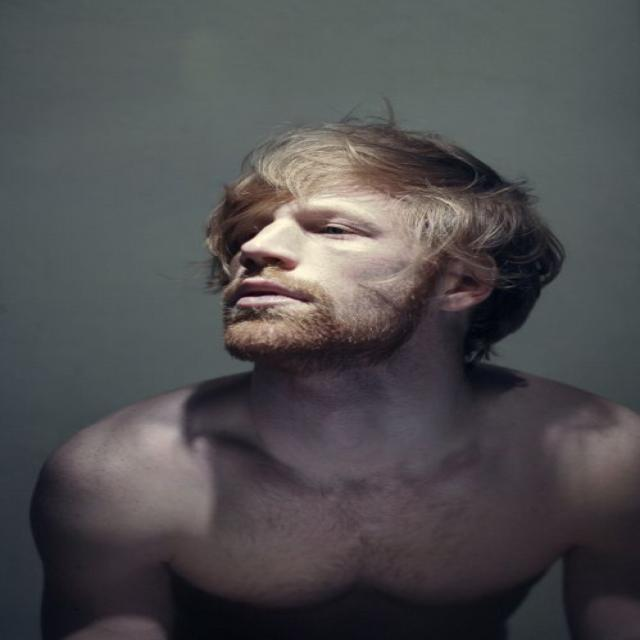earlobe: (442, 294, 465, 313)
eye: (312, 224, 364, 237)
nose: (236, 252, 296, 282)
wholeear: (442, 251, 497, 313)
